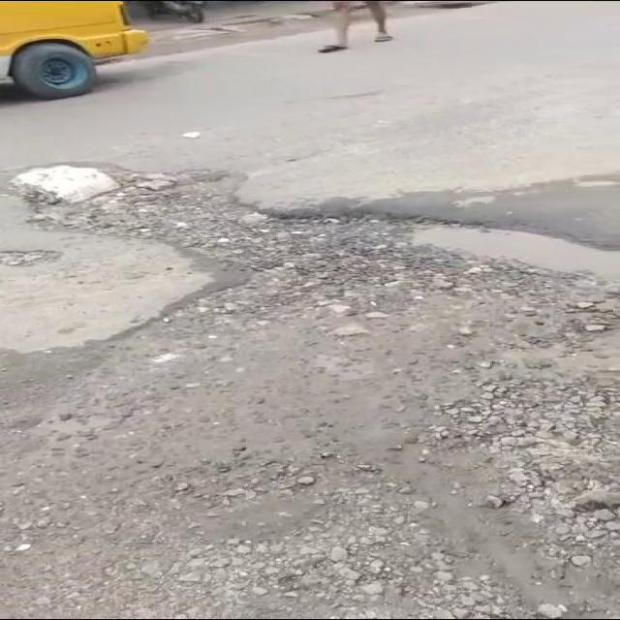lubang: (0, 162, 619, 616), (0, 249, 63, 266)
